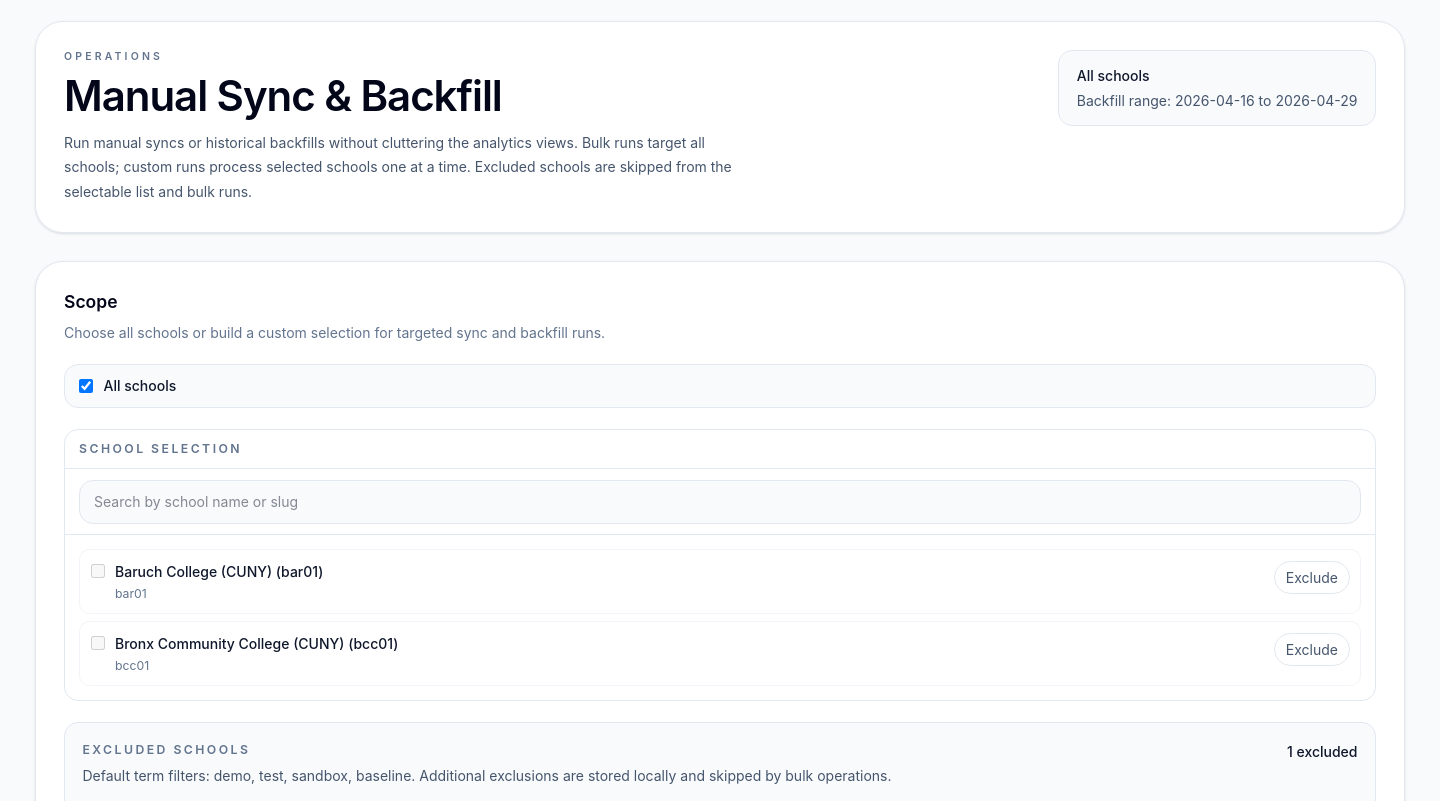
Operations › filters the school list from the type search
Type "bronx" into the search field with placeholder "Search by school name or slug" at (720, 502), box [79,480,1361,524]
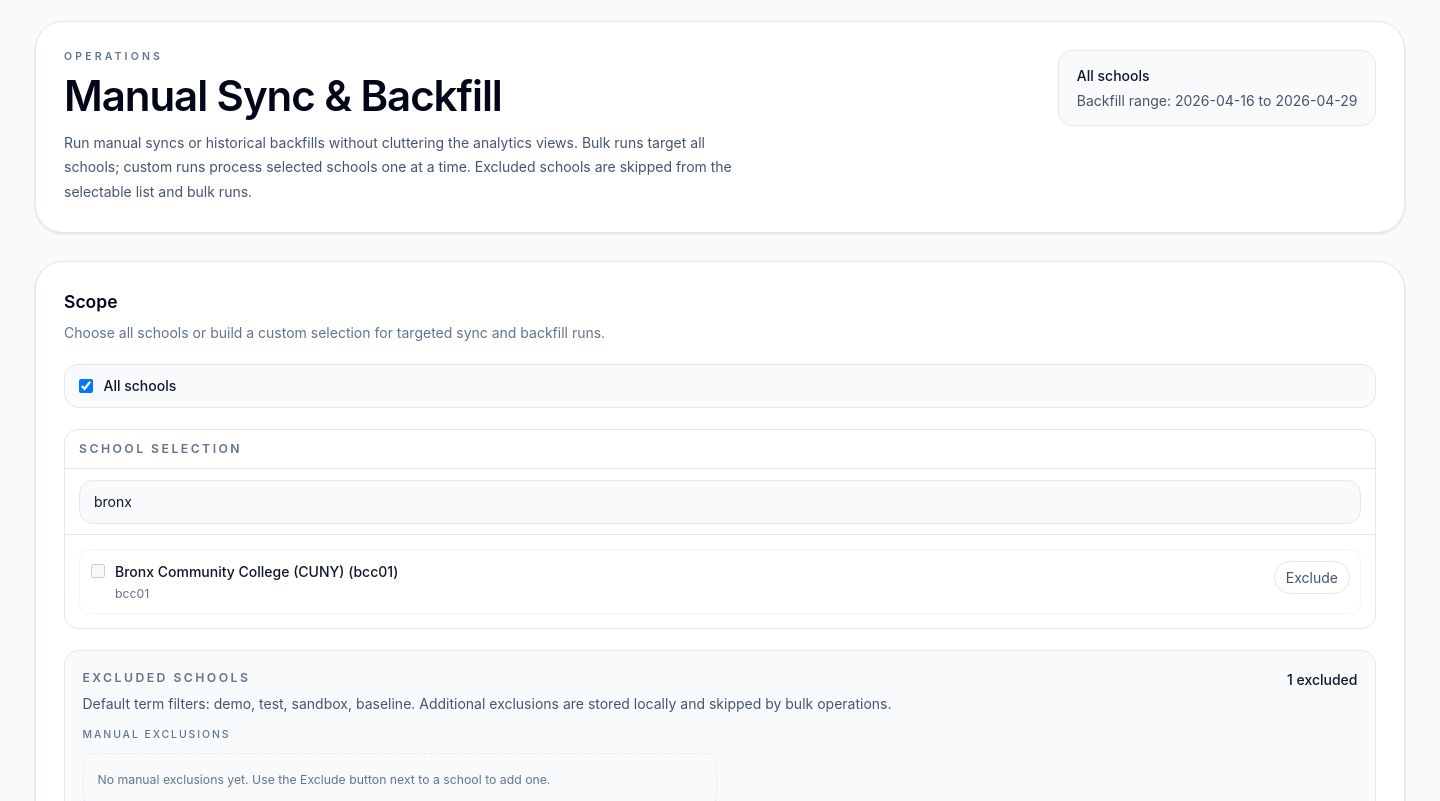
Expected: the text "Bronx Community College" is shown, [115,562,398,580]
Result: the text "Baruch College" is gone
Replace the text in the search field with "missing-school" at (720, 502), box [79,480,1361,524]
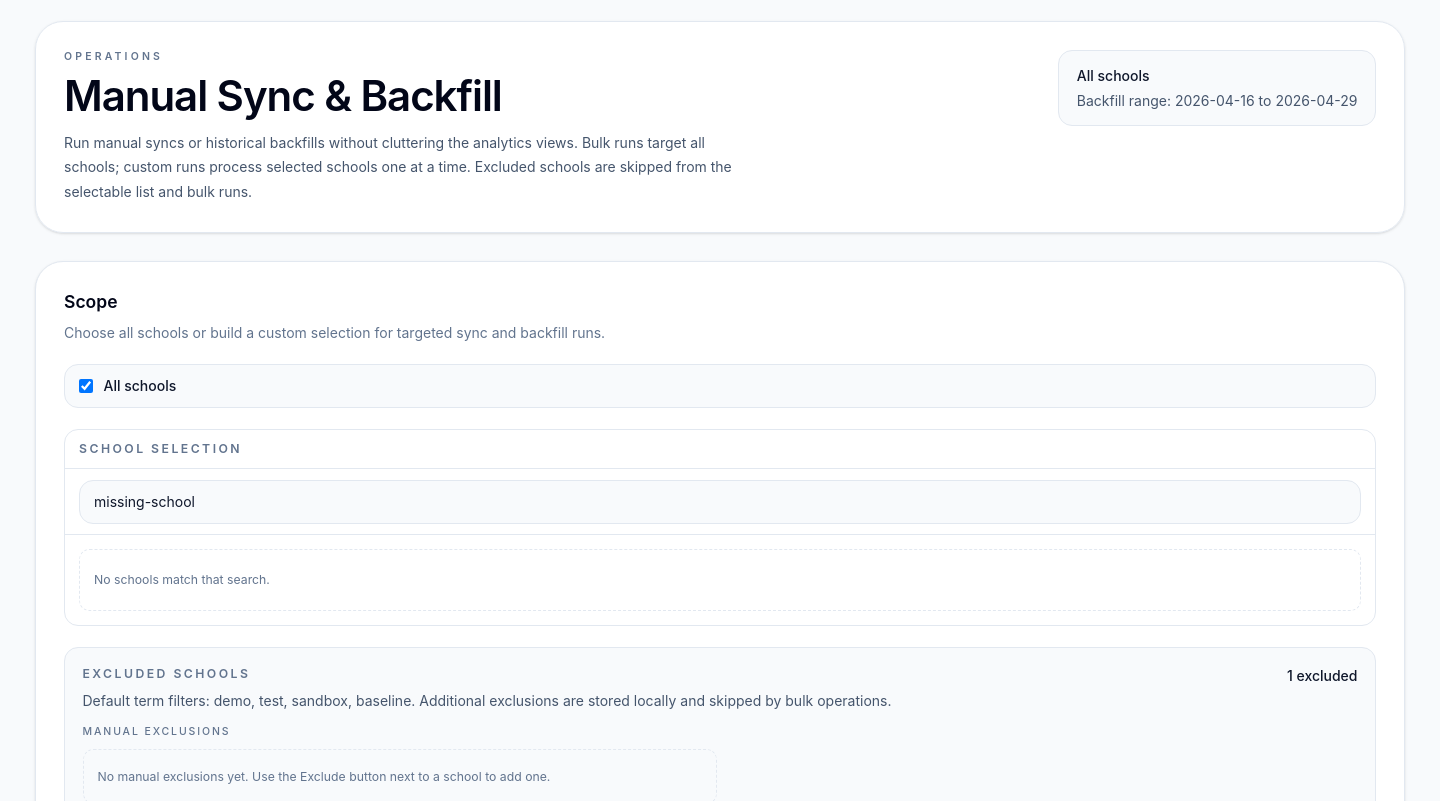
Result: the text "No schools match that search." is shown at [79,549,1361,610]
